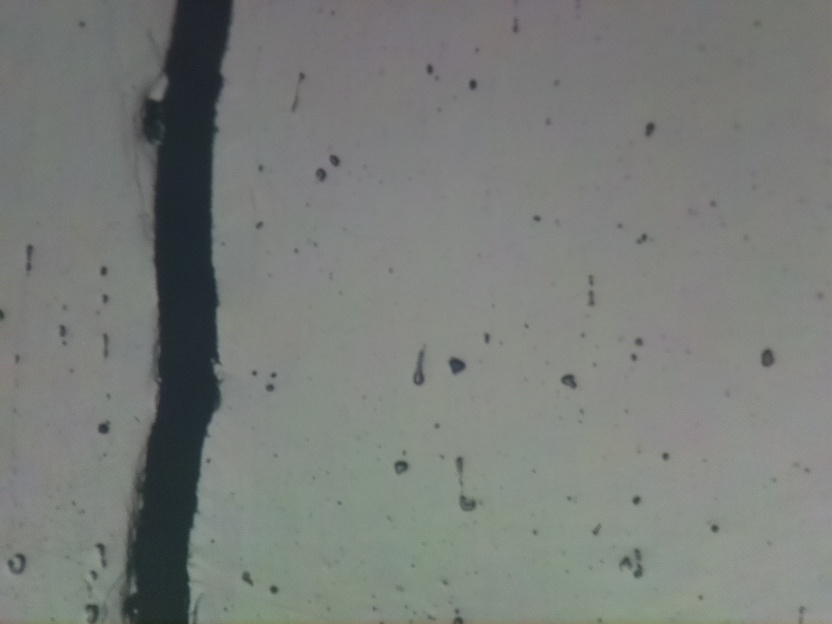crack: (121, 0, 225, 624)
